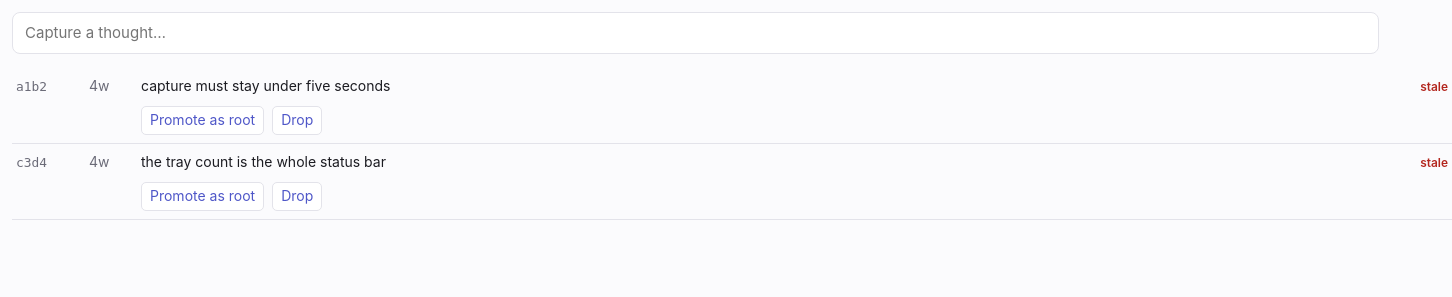
Scenario: InboxView › a busy settle says the corpus is busy
The image size is (1452, 297).
Expected: the text "a1b2" is shown, left=16, top=79, right=47, bottom=94
Click the button "Drop" below "a1b2".
click(297, 121)  # box left=272, top=106, right=322, bottom=135
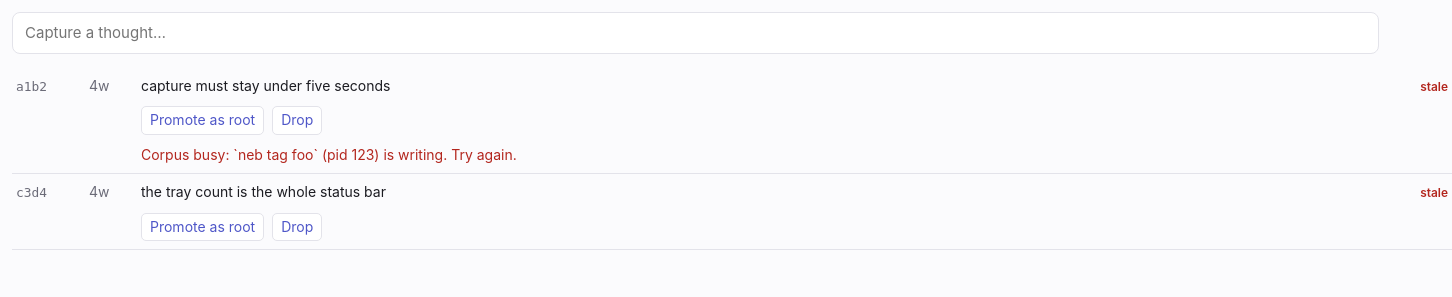
Now the message reads "Corpus busy: `neb tag foo` (pid 123) is writing. Try again.", box left=141, top=146, right=517, bottom=163
Click the button "Promote as root" below "c3d4".
click(203, 227)  # box left=141, top=213, right=264, bottom=241
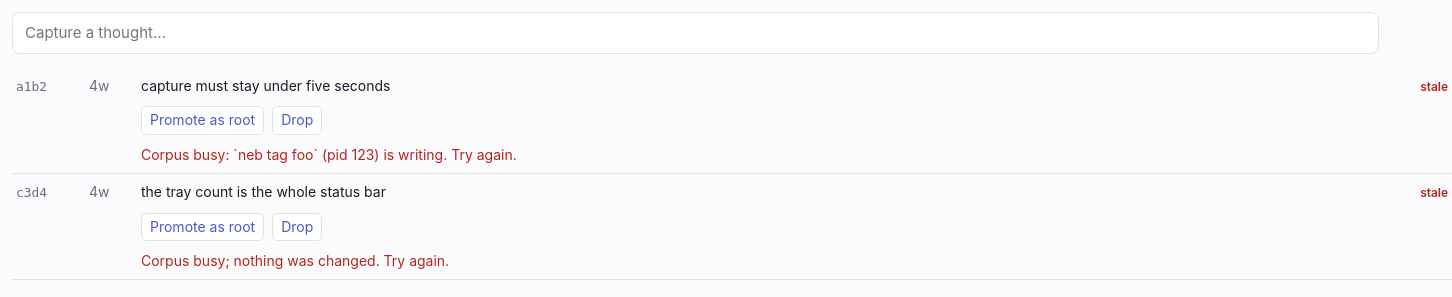
Expected: the number of list items is 2, left=12, top=68, right=1451, bottom=174; left=12, top=174, right=1451, bottom=280
Now the message "Corpus busy; nothing was changed. Try again." is shown, box left=141, top=252, right=449, bottom=269
